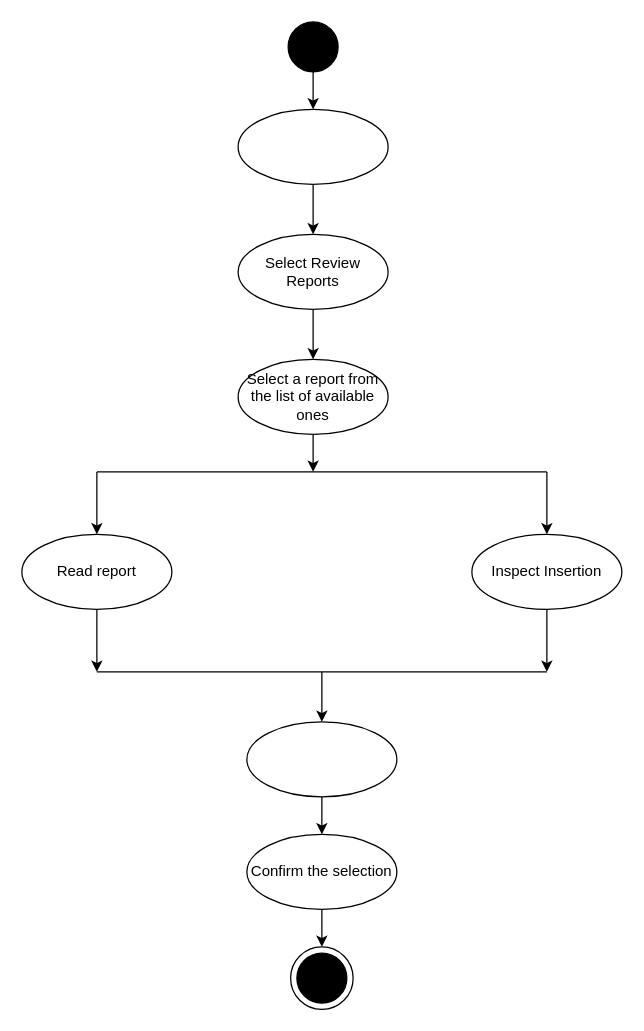
The diagram is 644 pixels wide and 1031 high, and some of its shapes have lost their labels. The centre of each missing label's shape, as x and y in pixels:
"Choose an available resolution" belongs at (321,759).
"Log In as Admin" belongs at (312,146).
